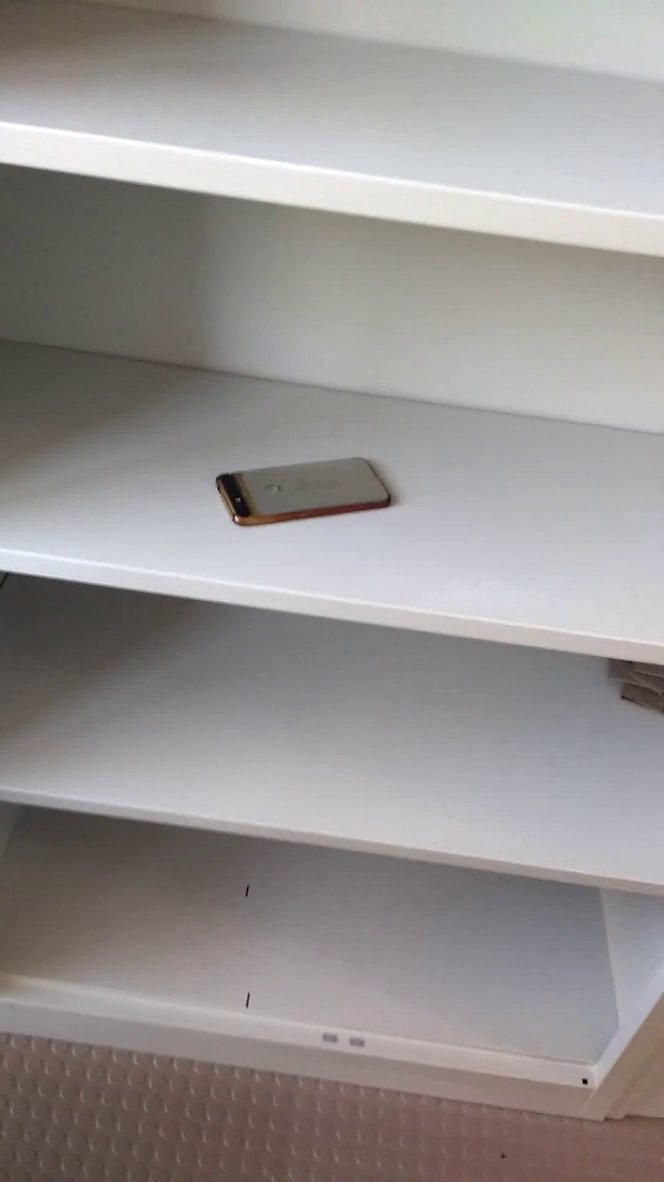phone: (208, 442, 408, 544)
